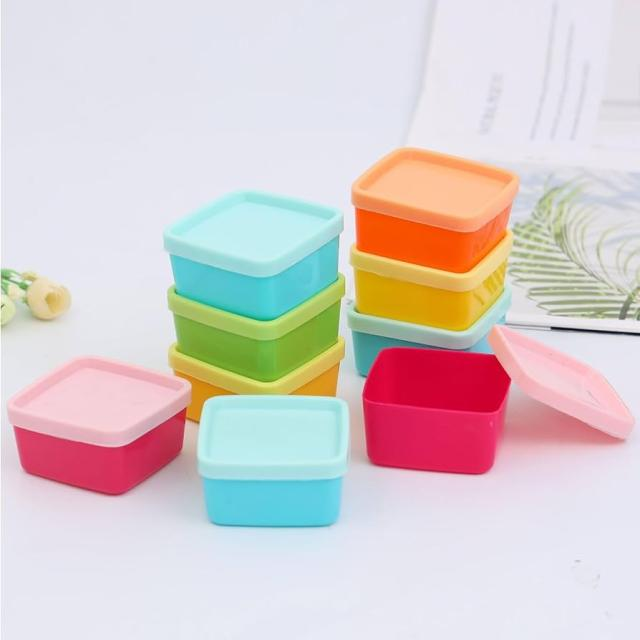plastic_box: (148, 159, 375, 443), (344, 124, 539, 376), (6, 340, 204, 518), (355, 320, 538, 511), (181, 375, 366, 543)
